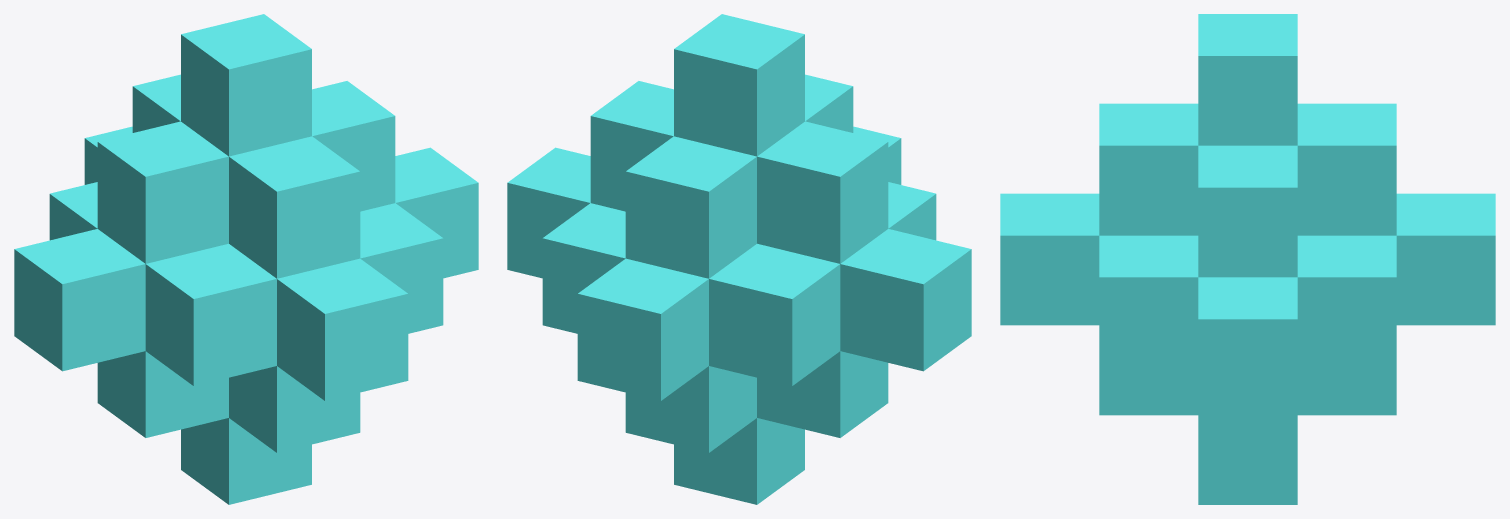
File: element-very big.obj
3 views of the same model, side by side, from view 1: azimuth 30°, elevation 25°; view 2: azimuth 150°, elevation 25°; view 3: azimuth 270°, elevation 25° (orthographic). The views are drawn at different scales.
Bounding box in the file's own units: 2 × 2 × 2.
1 material, 1 textured.
